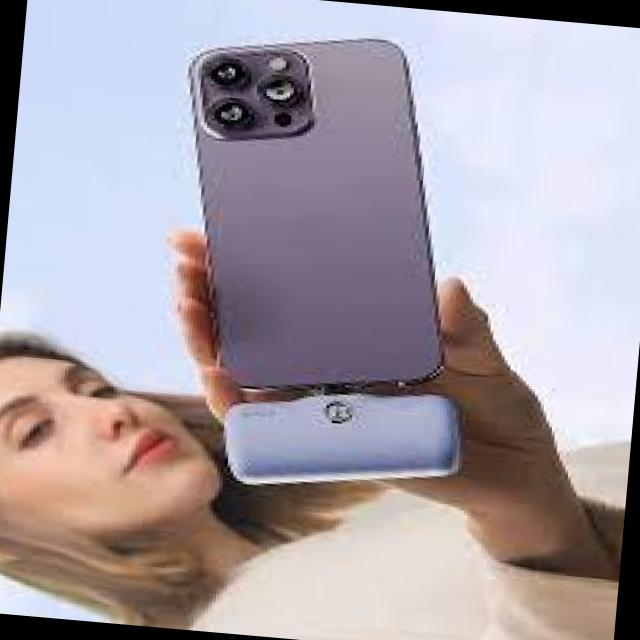power_bank: (207, 364, 470, 504)
